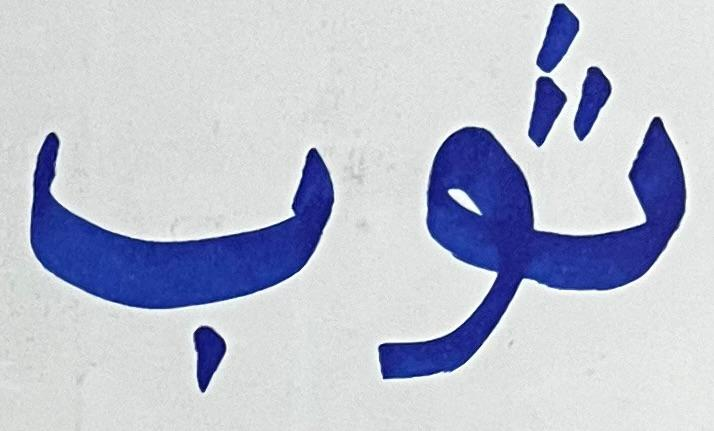beh: (23, 105, 340, 405)
theh: (532, 3, 689, 297)
waw: (360, 124, 523, 394)
